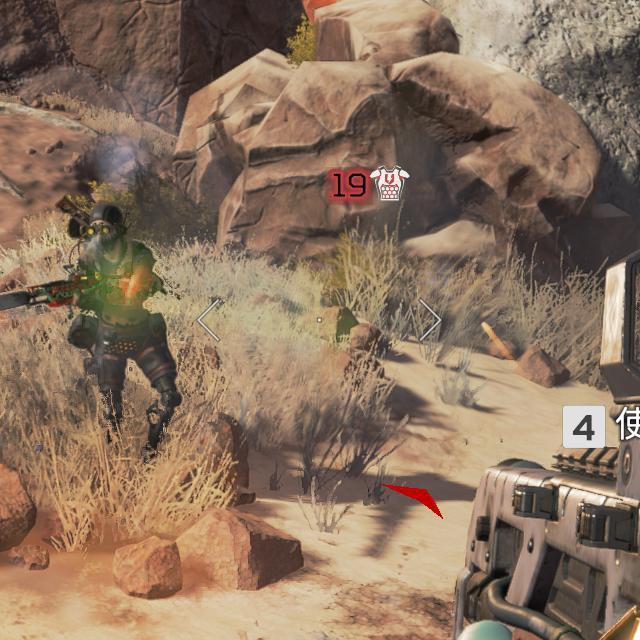avatar: (61, 199, 182, 456)
